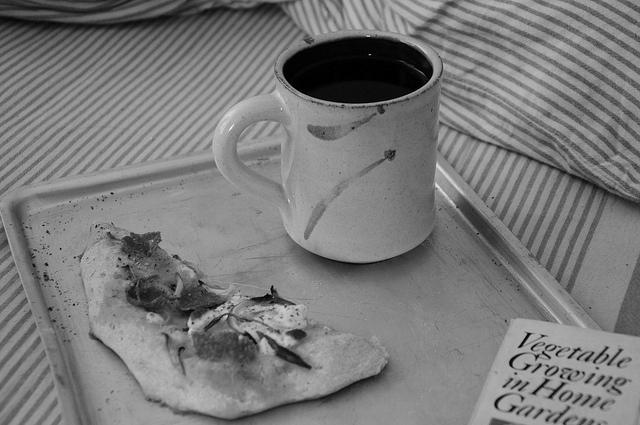bottle: (212, 30, 441, 262)
